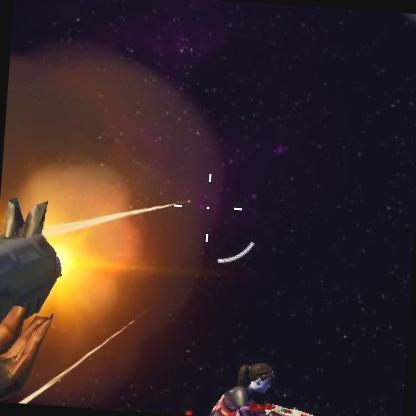person: (229, 362, 288, 416)
